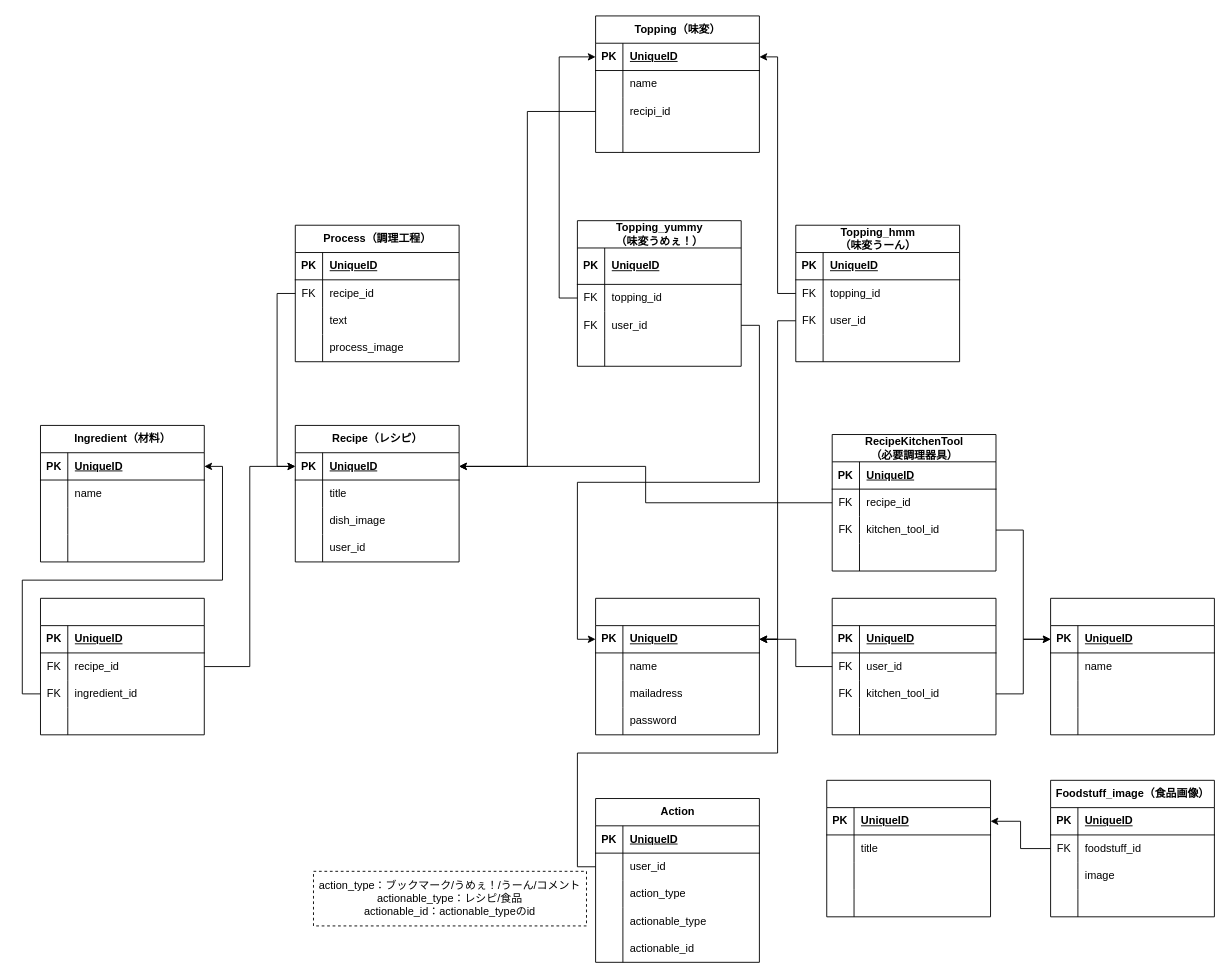
The diagram is 1230 pixels wide and 978 high, and some of its shapes have lost their labels. The shapes that lost their labels are listed below. From the top down, each one's box as (x1, y1, x2, y2) in pixels, then its label:
(40, 597, 204, 735): Need-Ingredient （必要な材料）
(595, 597, 759, 735): User（ユーザー）
(831, 597, 996, 735): UserKitchenTool （所有調理器具）
(1050, 597, 1214, 735): KitchenTool（調理器具）
(826, 779, 991, 917): Foodstuff（食品）
